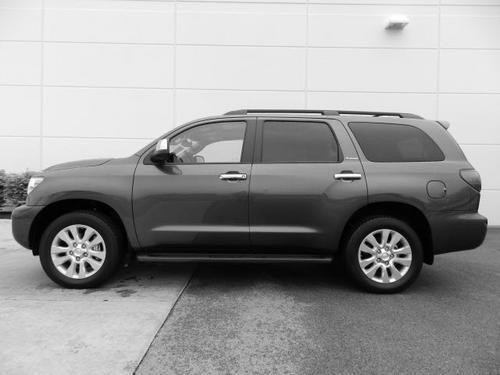car: (12, 108, 489, 297)
